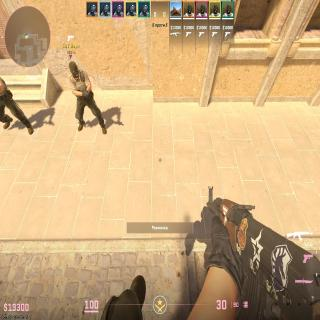T-Body: (67, 61, 93, 128), (0, 76, 12, 130)
T-Head: (69, 62, 79, 78)
